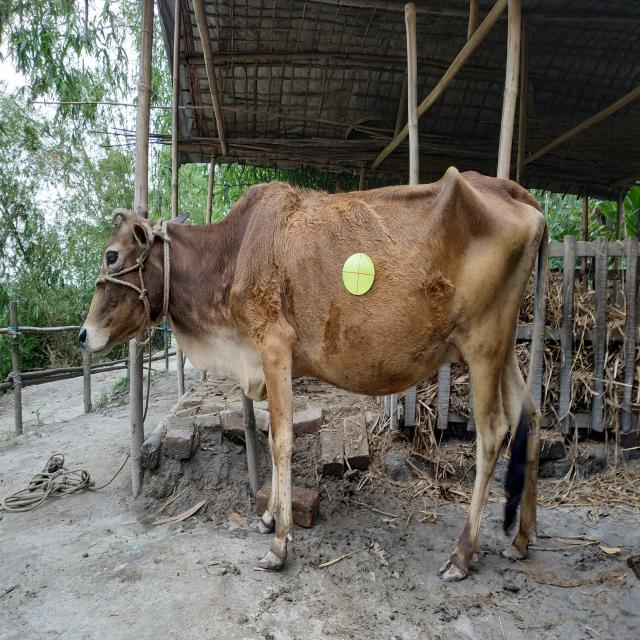badan_sapi: (232, 188, 547, 394)
sapi: (75, 154, 567, 588)
